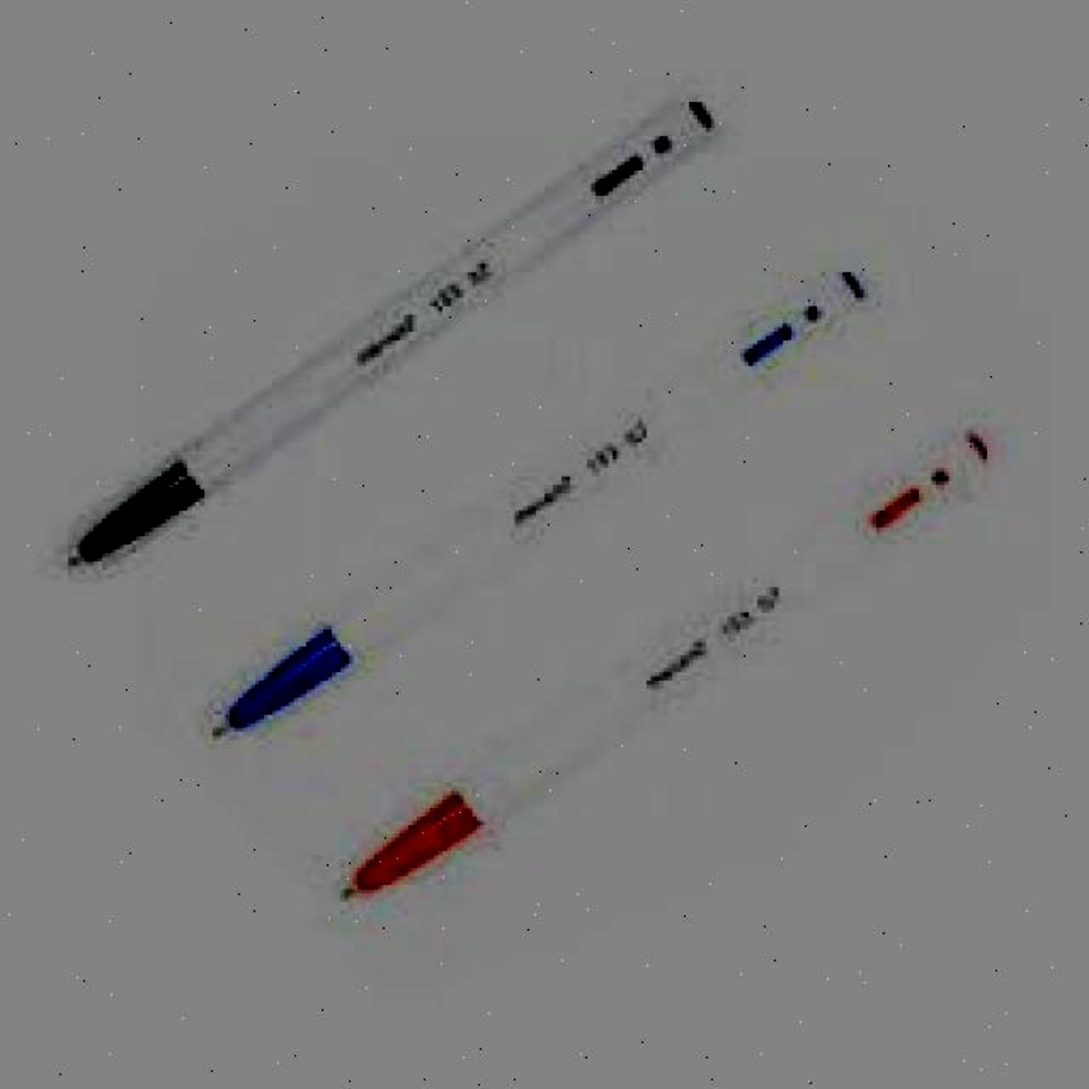pen: (60, 99, 715, 580)
